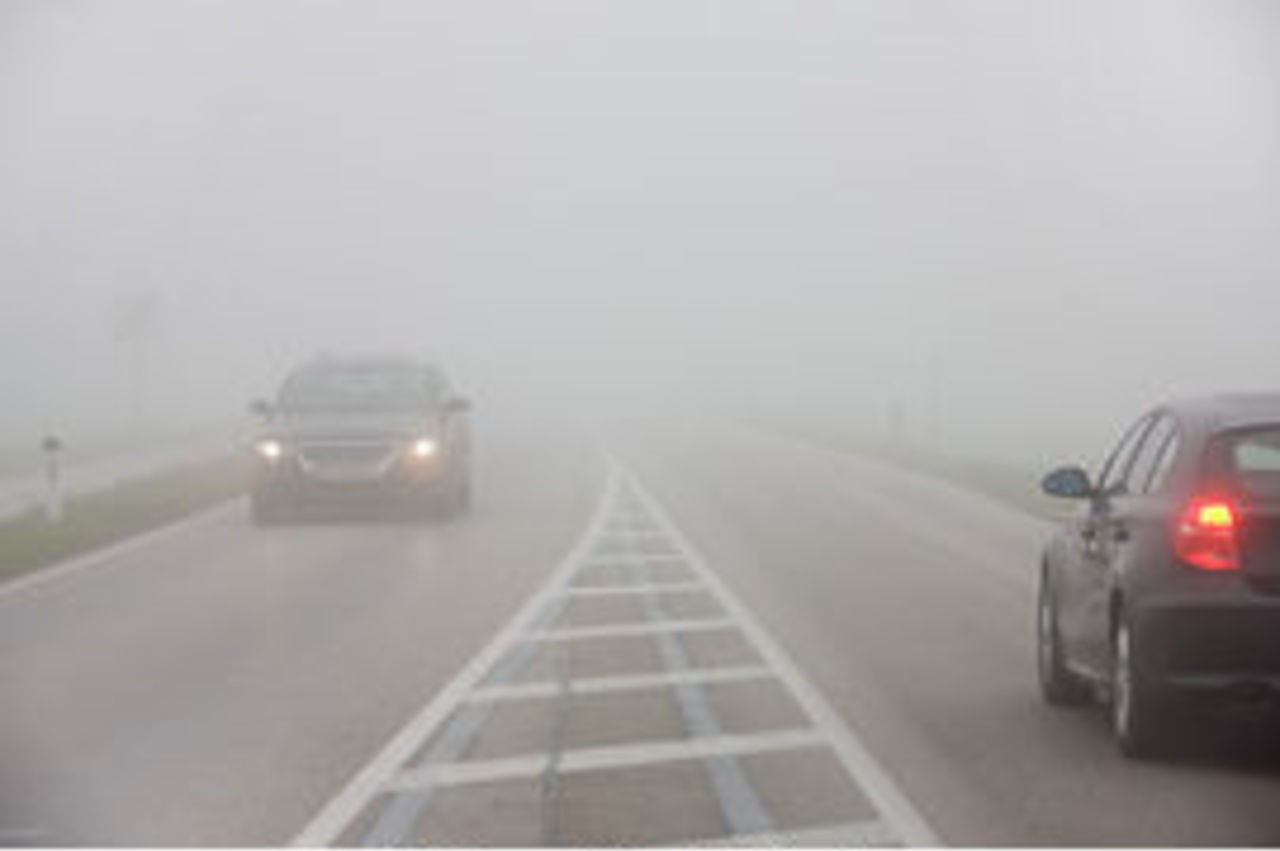car: (1037, 394, 1279, 782), (248, 356, 473, 523)
